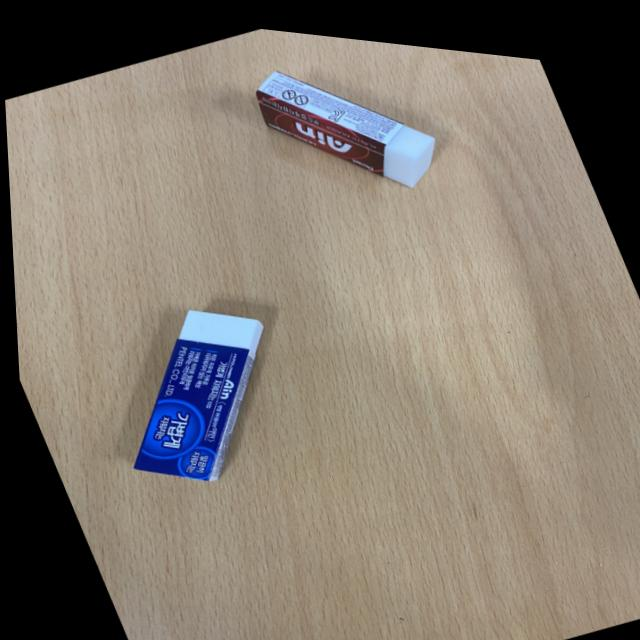blue: (69, 267, 323, 517), (242, 21, 457, 227)
